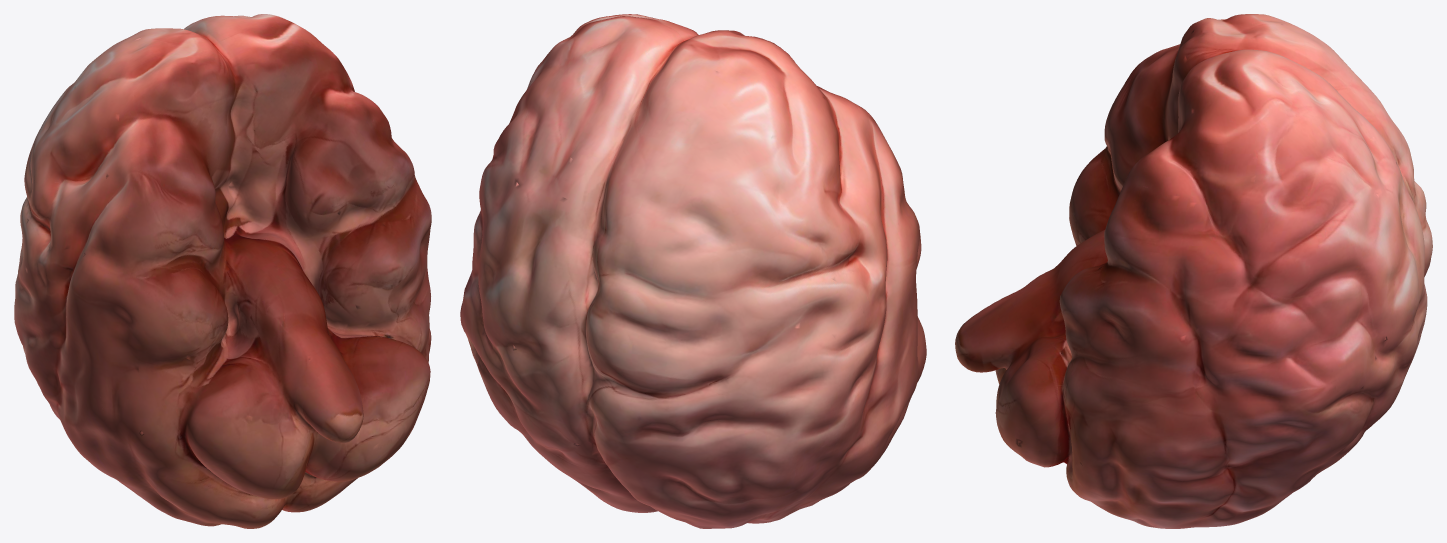
File: Brain.fbx
3 views of the same model, side by side, from view 1: azimuth 30°, elevation 25°; view 2: azimuth 150°, elevation 25°; view 3: azimuth 270°, elevation 25° (orthographic). The views are drawn at different scales.
Parts seen in each view (by area): view 1: Mesh_0.002; view 2: Mesh_0.002; view 3: Mesh_0.002.
Part boxes in pixels (x1=…): Mesh_0.002: x1=14, y1=14, x2=431, y2=528; Mesh_0.002: x1=460, y1=14, x2=926, y2=528; Mesh_0.002: x1=955, y1=14, x2=1432, y2=528.
Bounding box in the file's own units: 163 × 200 × 186.
Materials: 1 (1 with a texture image).
